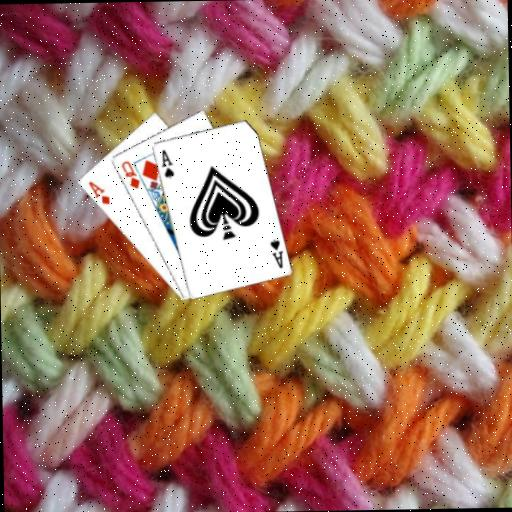AD: (85, 178, 112, 207)
AS: (266, 236, 285, 270), (158, 147, 175, 180)
QD: (118, 157, 142, 191)
